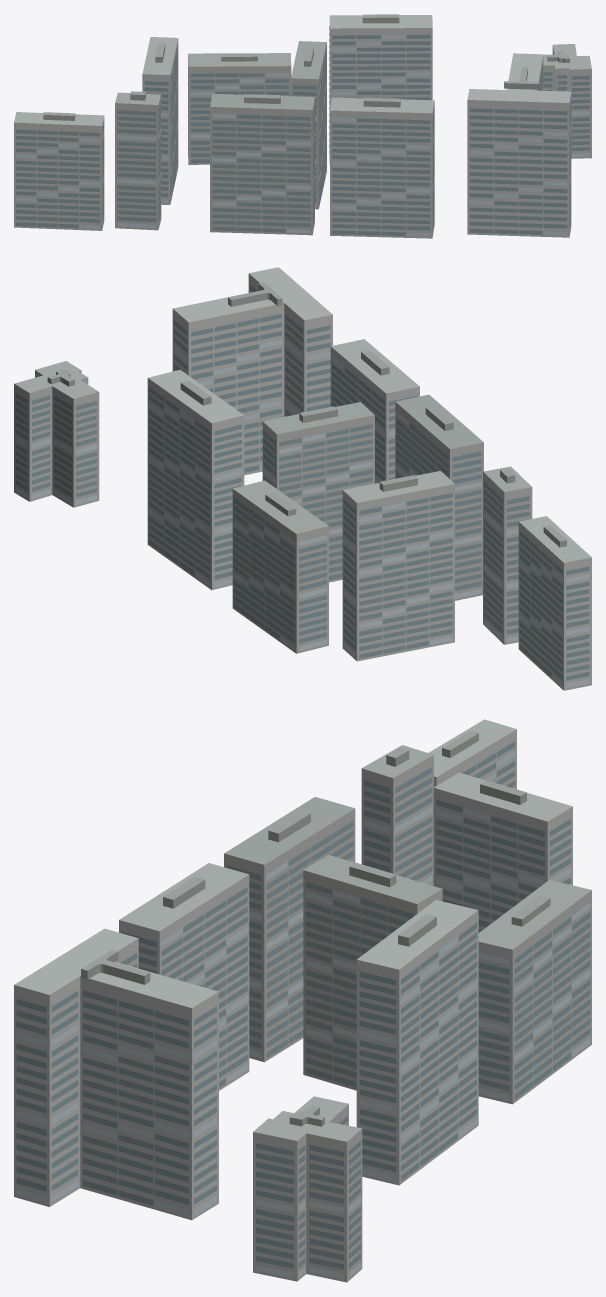
The model's file is apt-a15780401.glb.
3 renders of one model, top to bottom at view 1: azimuth 30°, elevation 25°; view 2: azimuth 150°, elevation 25°; view 3: azimuth 270°, elevation 25°, orthographic. The views are drawn at different scales.
Visible parts, largest first — view 1: apt-a15780401; view 2: apt-a15780401; view 3: apt-a15780401.
Boxes of the visible parts, x1,y1,x2,y2 form: apt-a15780401: (14, 14, 591, 238); apt-a15780401: (14, 267, 591, 690); apt-a15780401: (14, 719, 591, 1282).
Size of the model in its own units: 232 by 61 by 142.
